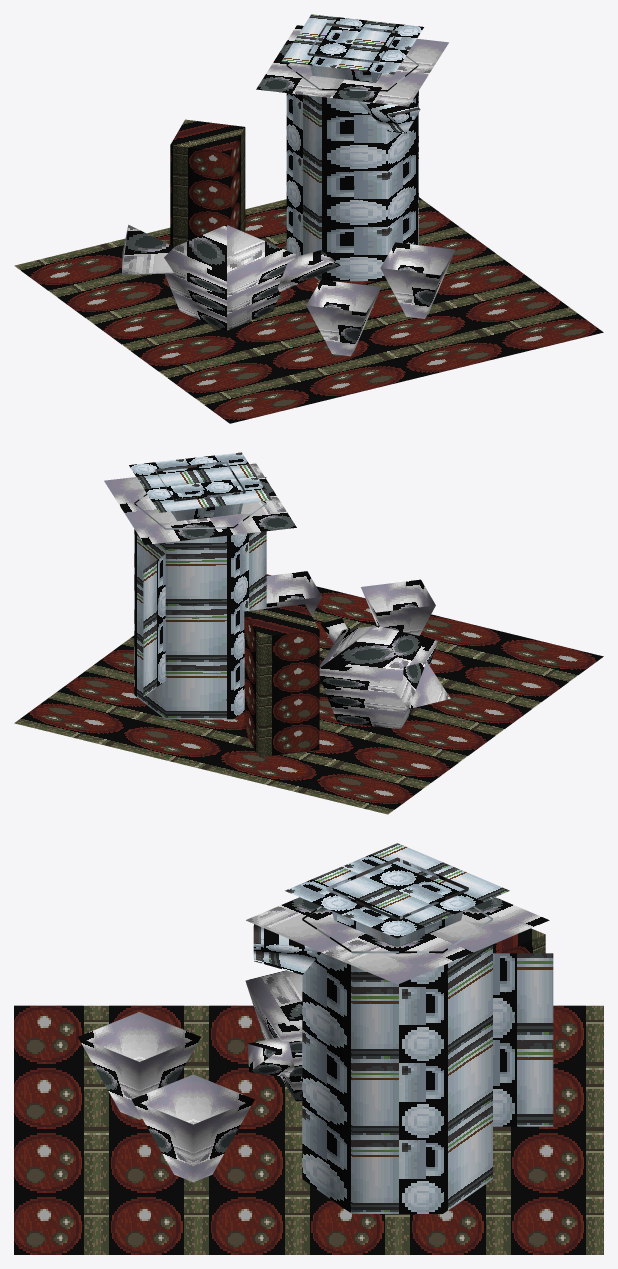
The model's file is 0119dummy.gltf.
3 renders of one model, top to bottom at view 1: azimuth 30°, elevation 25°; view 2: azimuth 150°, elevation 25°; view 3: azimuth 270°, elevation 25°, orthographic. The views are drawn at different scales.
Parts seen in each view (by area): view 1: 0119dummy; view 2: 0119dummy; view 3: 0119dummy.
Part boxes in pixels (x1,y1,x2,y2): 0119dummy: [14, 14, 603, 423]; 0119dummy: [14, 452, 603, 814]; 0119dummy: [14, 843, 603, 1254].
Bounding box in the file's own units: 0.98 × 0.5994 × 0.98.
Materials: 3 (3 with a texture image).
